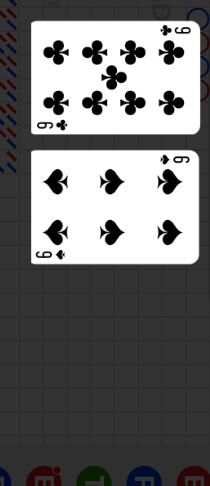6S: (34, 248, 67, 260)
9C: (157, 24, 192, 38)
